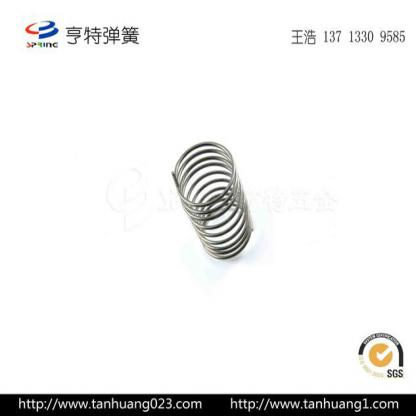FOD: (171, 139, 256, 262)
